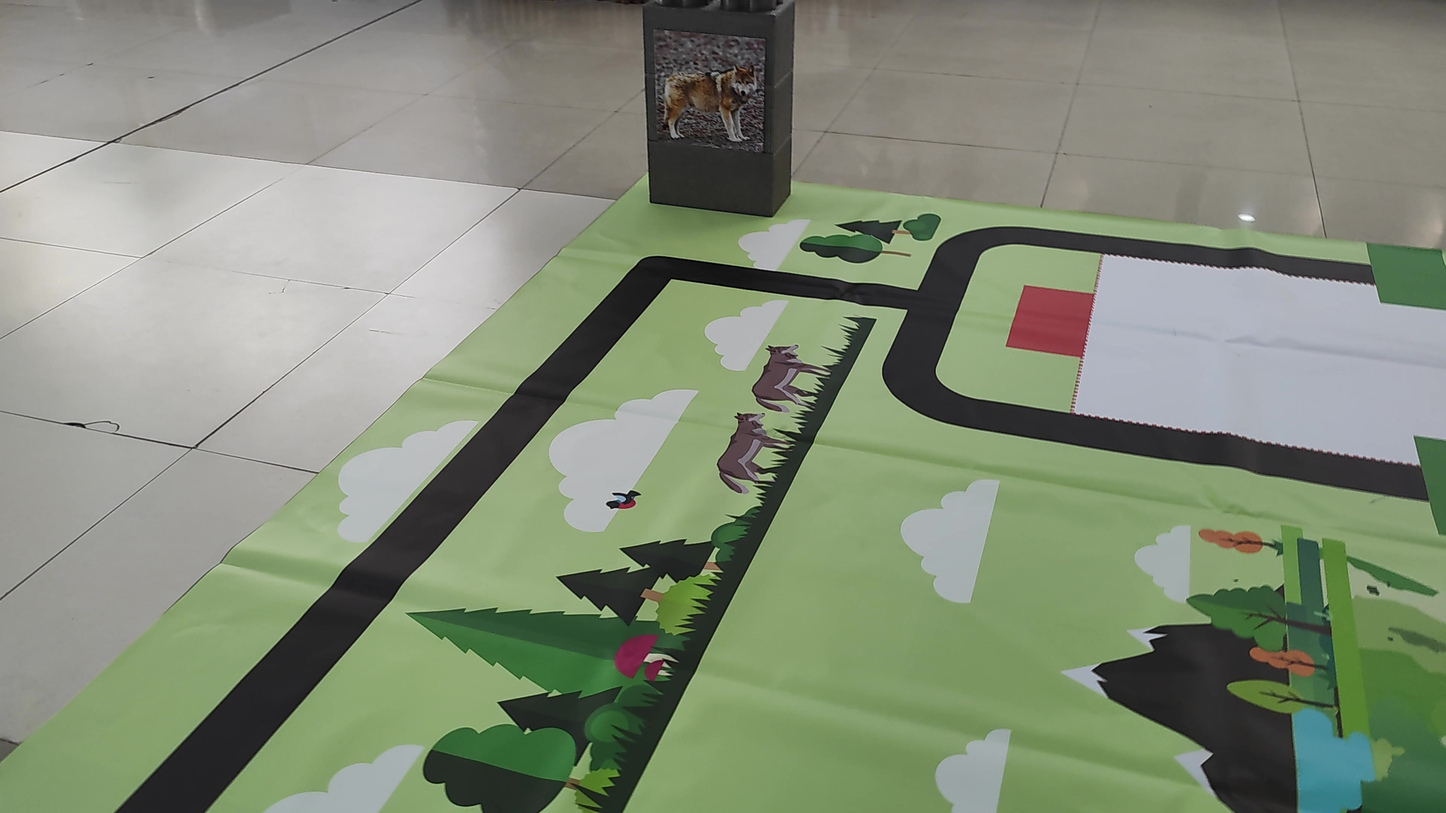wolf: (653, 34, 768, 153)
